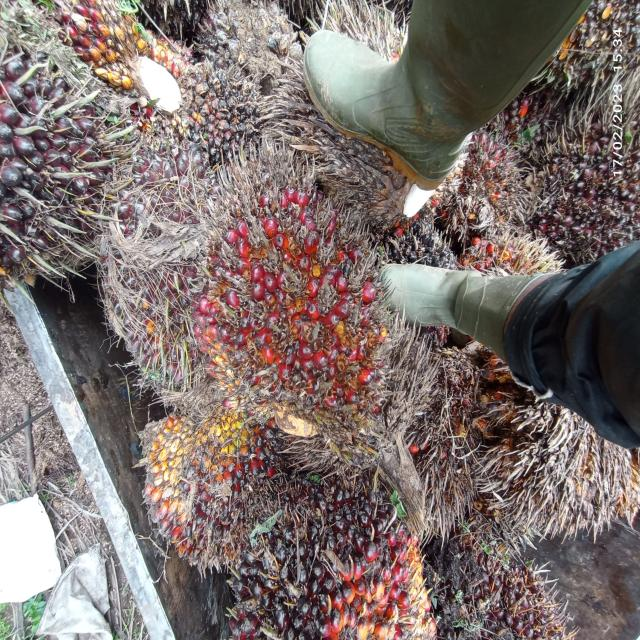fraksi 00: (236, 471, 420, 640)
fraksi 1: (120, 362, 292, 584)
fraksi 3: (181, 148, 406, 432)
